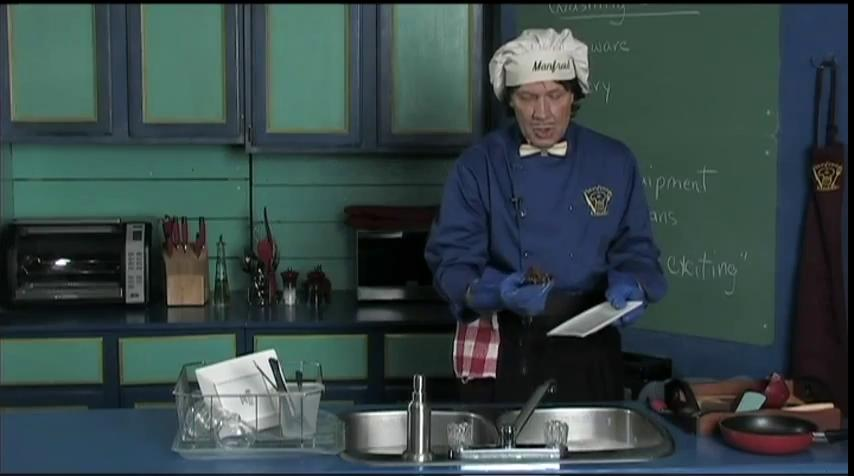victim: (421, 25, 670, 404)
